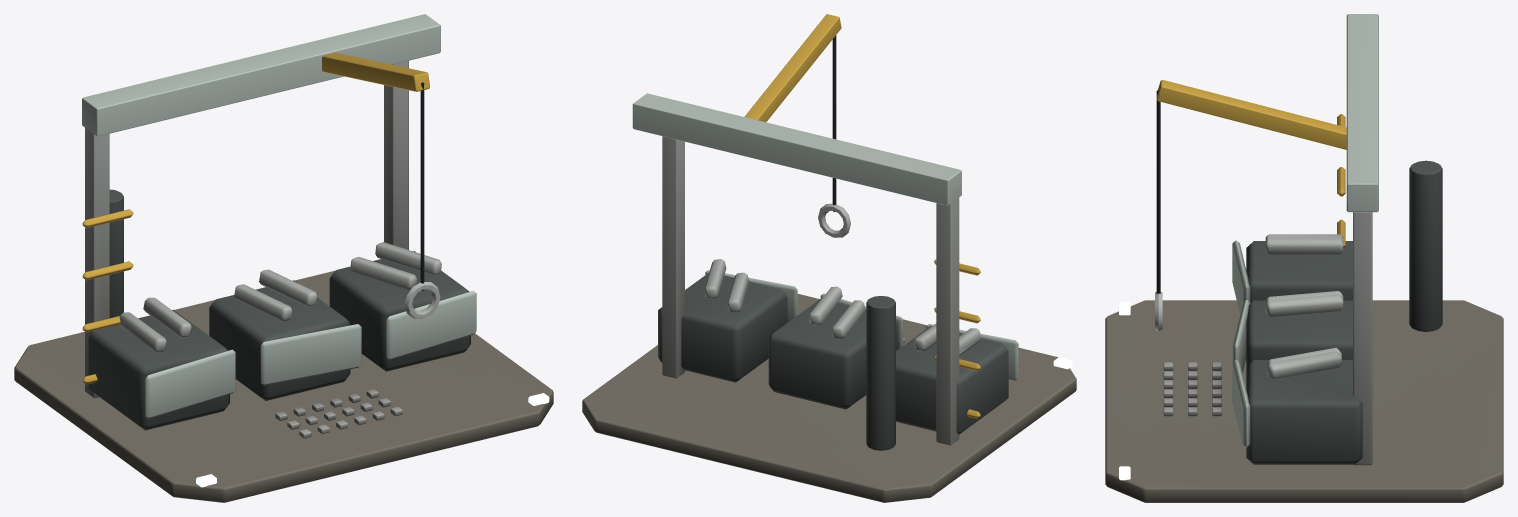
File: salvageyard.glb
3 renders of one model, left to right at view 1: azimuth 30°, elevation 25°; view 2: azimuth 150°, elevation 25°; view 3: azimuth 270°, elevation 25°, orthographic. The views are drawn at different scales.
Parts seen in each view (by area): view 1: Platform, Salvage_bins, Broken_gantry, Patch_panels, Gantry_posts, Reclaimed_beams, Crane_jib, Service_deck_fixtures, Exhaust.001, Ladder_rungs, Hook_cable, Hook; view 2: Platform, Salvage_bins, Broken_gantry, Gantry_posts, Exhaust.001, Reclaimed_beams, Crane_jib, Patch_panels, Ladder_rungs, Hook_cable, Hook; view 3: Platform, Salvage_bins, Broken_gantry, Exhaust.001, Reclaimed_beams, Gantry_posts, Crane_jib, Patch_panels, Service_deck_fixtures, Hook_cable, Ladder_rungs.
Part boxes in pixels (x1,y1,x2,y2): Platform: (14,270,553,502); Salvage_bins: (88,251,470,430); Broken_gantry: (82,14,440,136); Patch_panels: (145,291,476,418); Gantry_posts: (85,61,408,398); Reclaimed_beams: (119,242,441,352); Crane_jib: (322,52,429,91); Service_deck_fixtures: (275,389,402,438); Exhaust.001: (109,189,123,317); Ladder_rungs: (82,209,133,384); Hook_cable: (420,82,424,290); Hook: (404,282,440,318); Platform: (582,294,1076,502); Salvage_bins: (658,273,1008,434); Broken_gantry: (632,93,961,205); Gantry_posts: (662,136,959,445); Exhaust.001: (866,296,895,450); Reclaimed_beams: (704,259,981,355); Crane_jib: (744,14,841,122); Patch_panels: (705,270,1018,380); Ladder_rungs: (934,259,980,418); Hook_cable: (832,35,836,211); Hook: (818,203,850,237); Platform: (1105,300,1503,502); Salvage_bins: (1246,241,1362,464); Broken_gantry: (1346,14,1378,212); Exhaust.001: (1409,160,1442,331); Reclaimed_beams: (1265,234,1343,379); Gantry_posts: (1353,212,1372,465); Crane_jib: (1156,79,1346,149); Patch_panels: (1232,240,1250,447); Service_deck_fixtures: (1163,362,1221,416); Hook_cable: (1156,90,1160,293); Ladder_rungs: (1337,114,1345,248).
Bounding box in the file's own units: 4.6 × 4.08 × 4.1.
